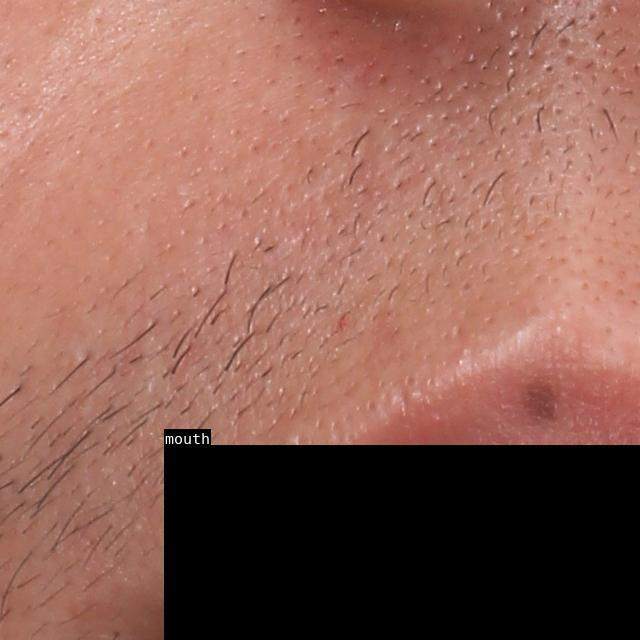nevus: (517, 371, 566, 429)
